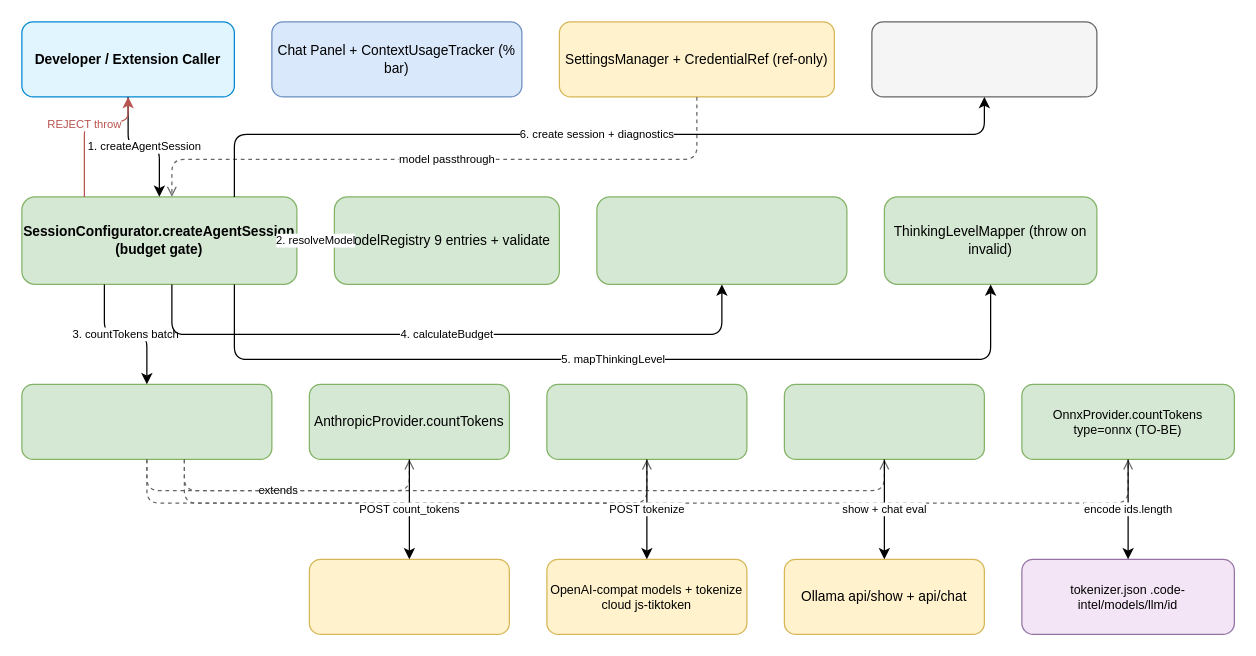
This 1256x656 diagram has some shape labels left out. The centre of each missing label's shape, as x and y in pixels:
Anthropic API count_tokens + models: pixel 408 596
BaseLlmProvider fallbackCount + withTimeout: pixel 146 421
BudgetCalculator + ThresholdGate REJECT / WARN / ALLOW: pixel 721 240
OllamaProvider.countTokens: pixel 883 421
OpenAIProvider.countTokens: pixel 646 421
Pi SDK SessionManager + createAgentSession: pixel 984 59
